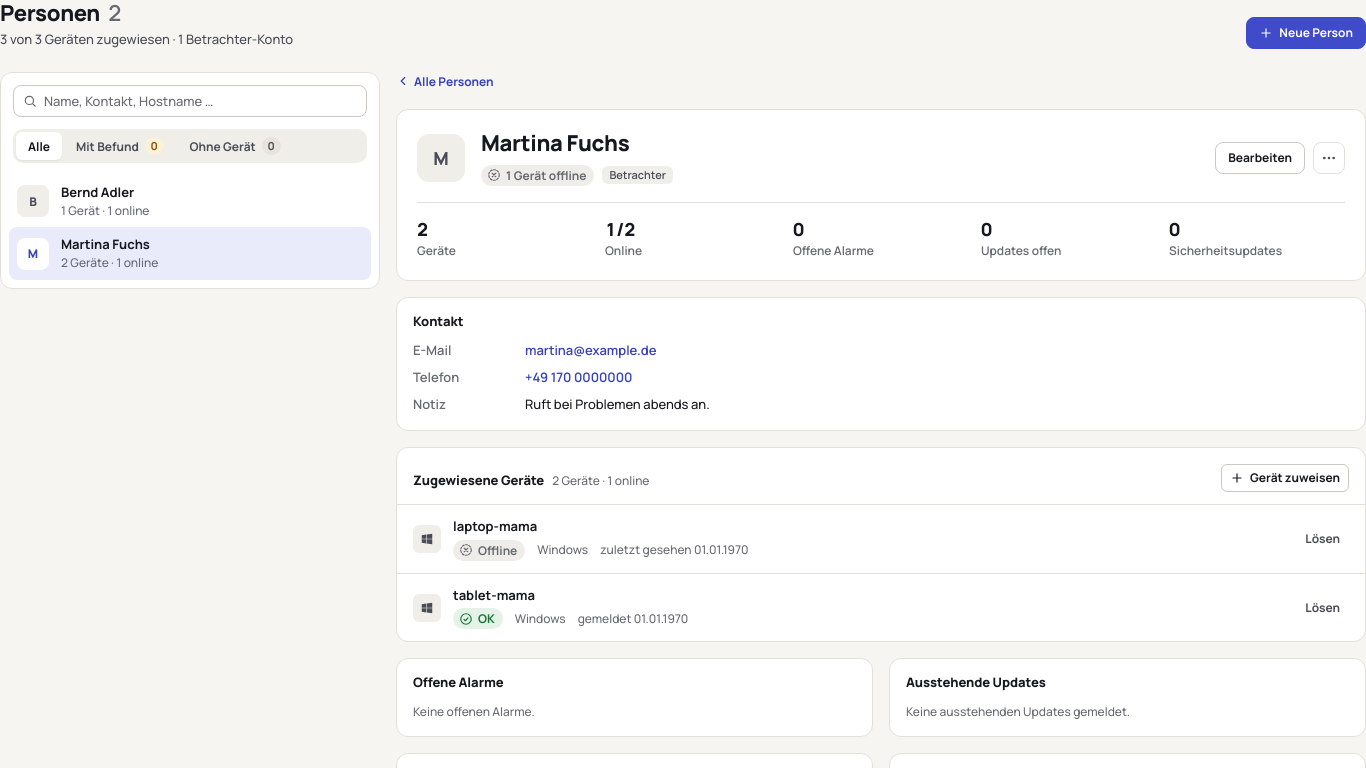
PersonsPage › edits a person in a dialog filled with what is stored
Click the button "Bearbeiten".
click(1260, 158)  # box [1215,142,1305,174]
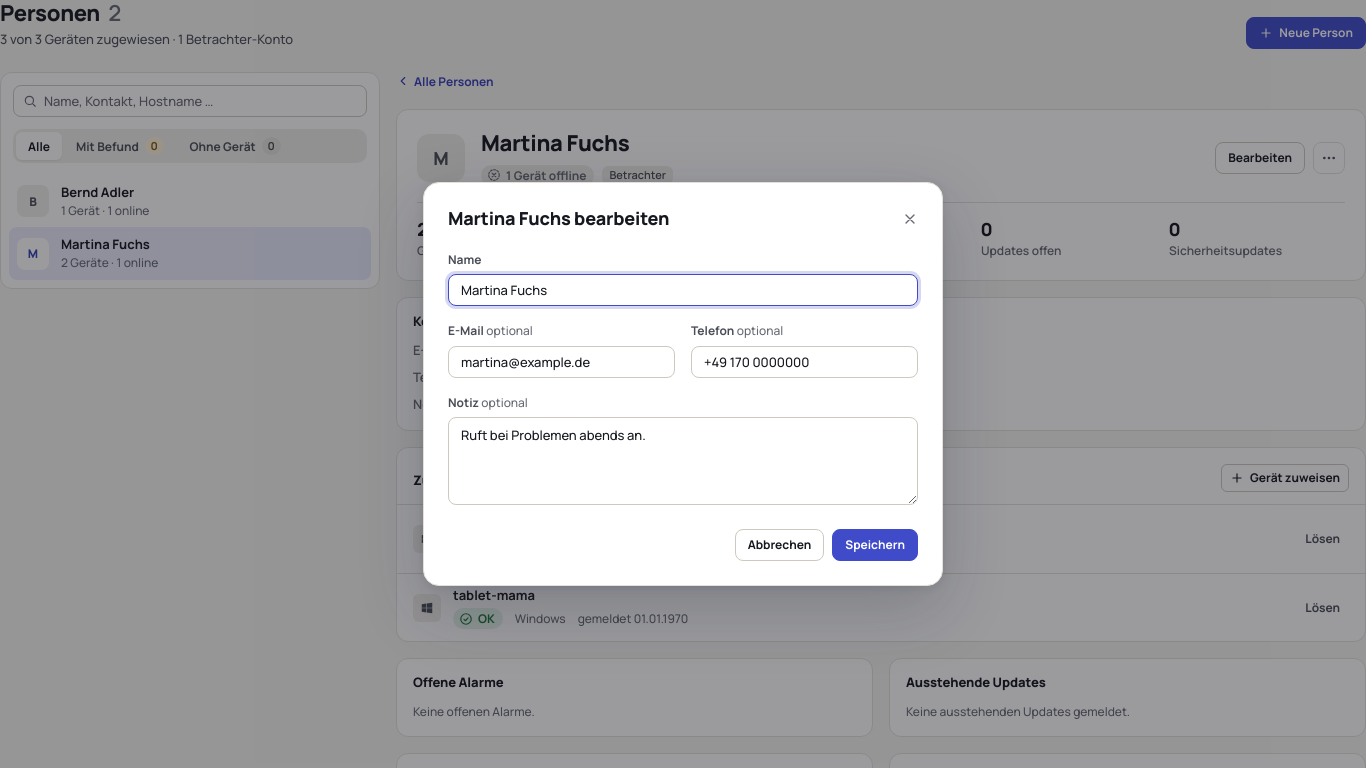
Result: the field labelled "Telefon optional" holds "+49 170 0000000"
Replace the text in the field labelled "Telefon optional" with "0170 1" at (804, 362), box [691,346,918,378]
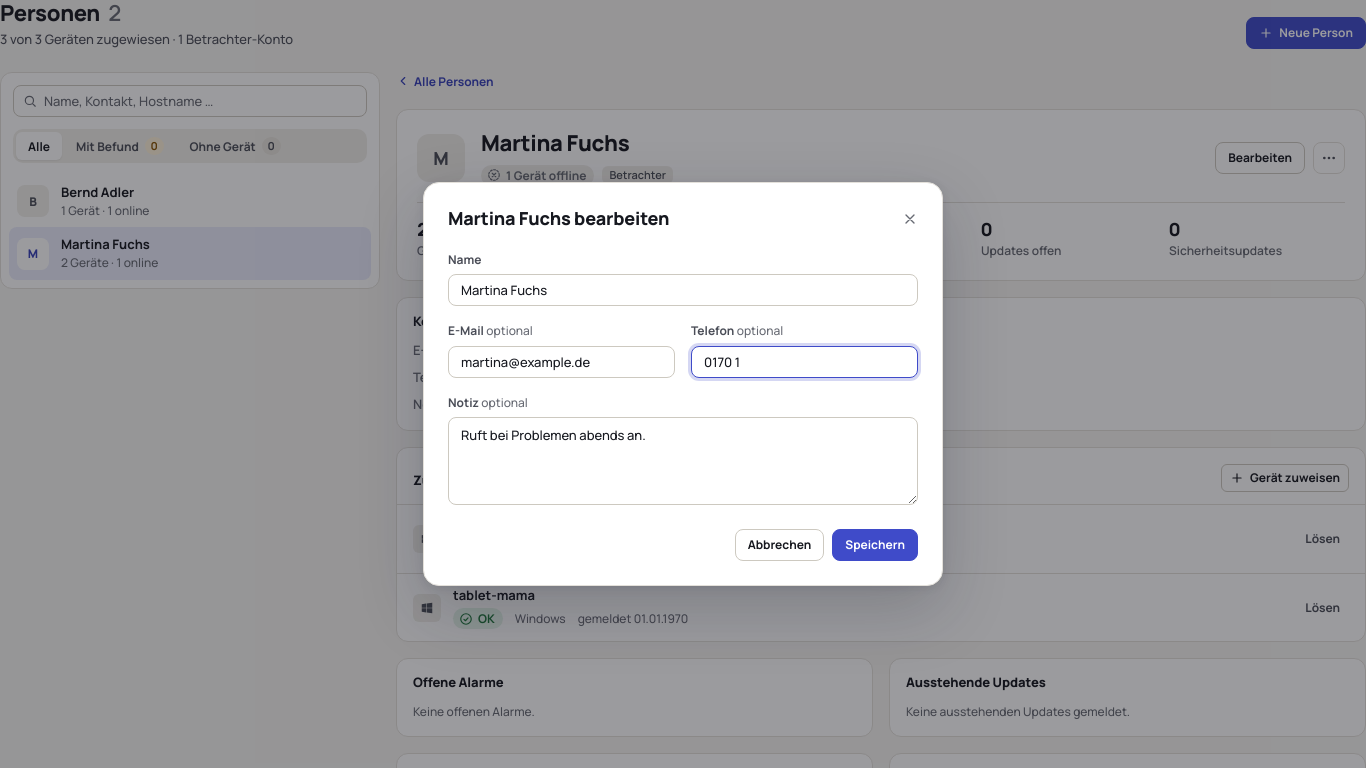
Click the button "Speichern".
click(875, 545)  # box [832,529,918,561]
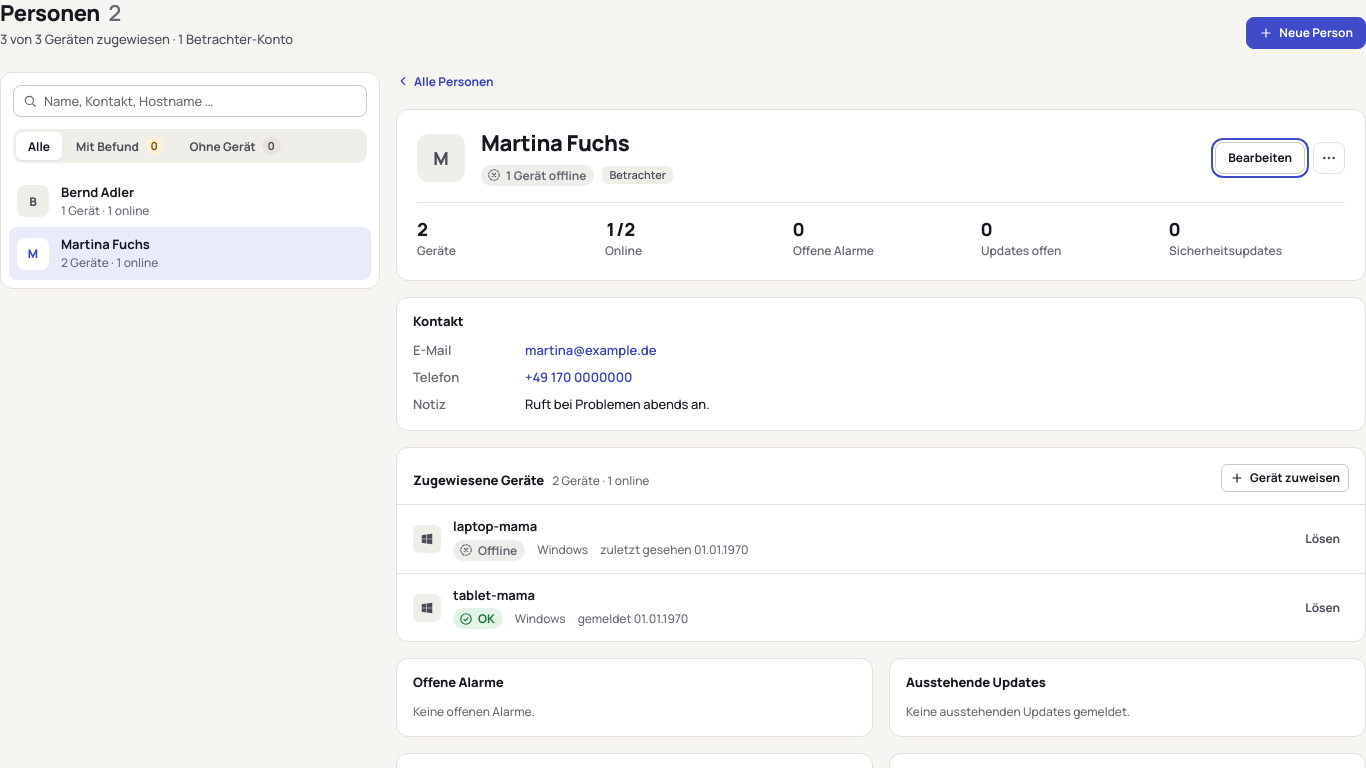
Result: the dialog is gone
